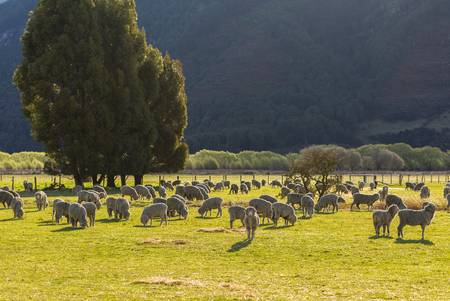sheep: (397, 201, 438, 241), (370, 203, 398, 237), (139, 202, 169, 227), (350, 190, 380, 214), (242, 206, 262, 240), (314, 191, 341, 216), (272, 201, 298, 225), (197, 196, 224, 218), (226, 204, 248, 230), (68, 202, 89, 229), (166, 196, 189, 220), (113, 195, 132, 219), (298, 193, 316, 218), (9, 198, 27, 220), (120, 182, 139, 200), (34, 191, 50, 210), (136, 183, 152, 200), (416, 184, 432, 199)
